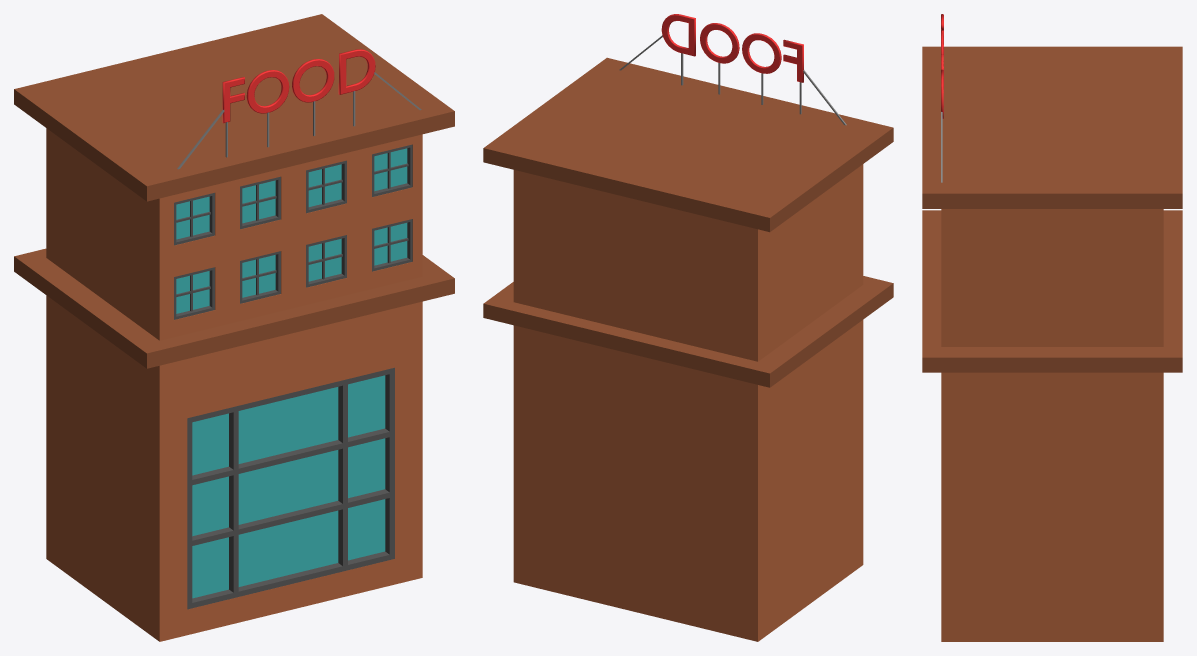
The model's file is Bld_Sanya.fbx.
3 renders of one model, left to right at view 1: azimuth 30°, elevation 25°; view 2: azimuth 150°, elevation 25°; view 3: azimuth 270°, elevation 25°, orthographic. The views are drawn at different scales.
Parts seen in each view (by area): view 1: Cube.202; view 2: Cube.202; view 3: Cube.202.
Part boxes in pixels (<box>): Cube.202: <box>14,14,454,641</box>; Cube.202: <box>483,14,893,641</box>; Cube.202: <box>922,14,1182,641</box>.
Size of the model in its own units: 561 by 947 by 419.
